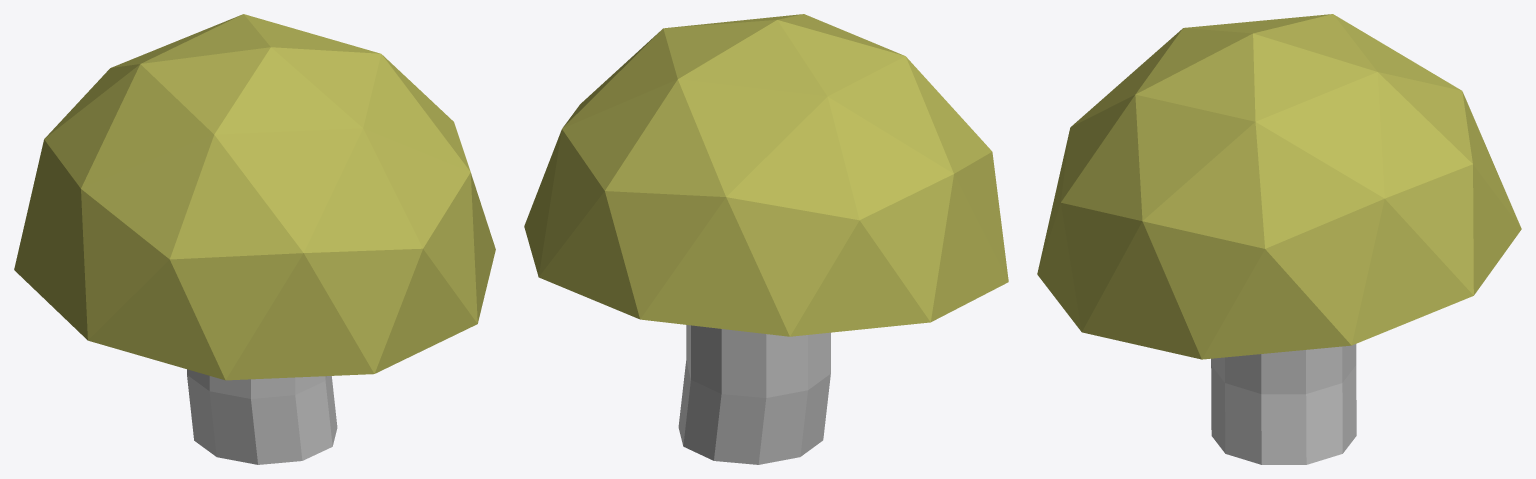
Rendered from jamurkuning.fbx.
3 views of the same model, side by side, from view 1: azimuth 30°, elevation 25°; view 2: azimuth 150°, elevation 25°; view 3: azimuth 270°, elevation 25° (orthographic).
Visible parts, largest first — view 1: Mushroom_1b.001; view 2: Mushroom_1b.001; view 3: Mushroom_1b.001.
Boxes of the visible parts, left/top/right/bottom form: Mushroom_1b.001: left=14, top=14, right=495, bottom=464; Mushroom_1b.001: left=524, top=14, right=1008, bottom=464; Mushroom_1b.001: left=1037, top=14, right=1521, bottom=464.
Bounding box in the file's own units: 37.53 × 35.33 × 39.06.
